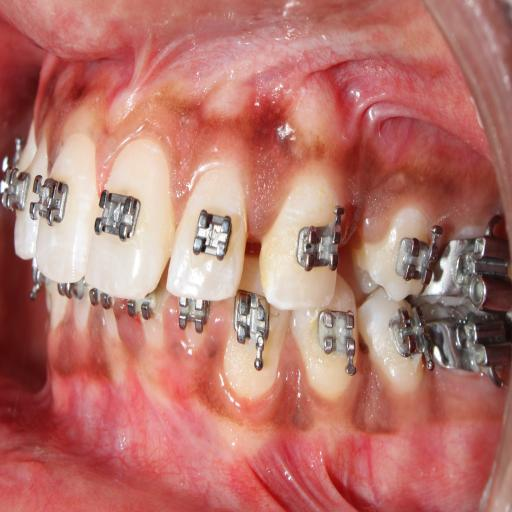correct_brace: (291, 202, 346, 275), (190, 206, 234, 265)
incorrect_brace: (166, 144, 248, 302)
